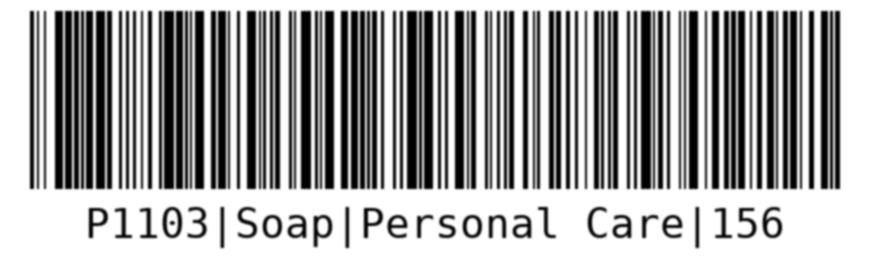milk: (23, 3, 851, 263)
